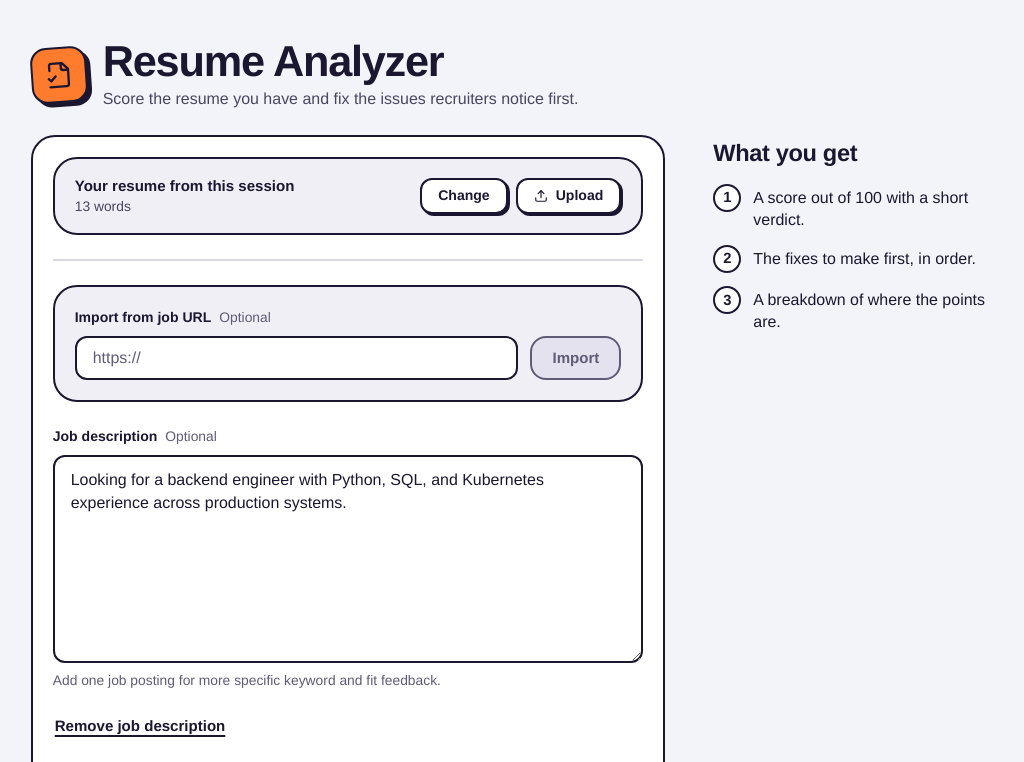
Test case: ToolRouteScreen › lets the user take the optional job back out of a Resume review
Click the button "Remove job description" at (140, 726), box 53,715 -> 227,738
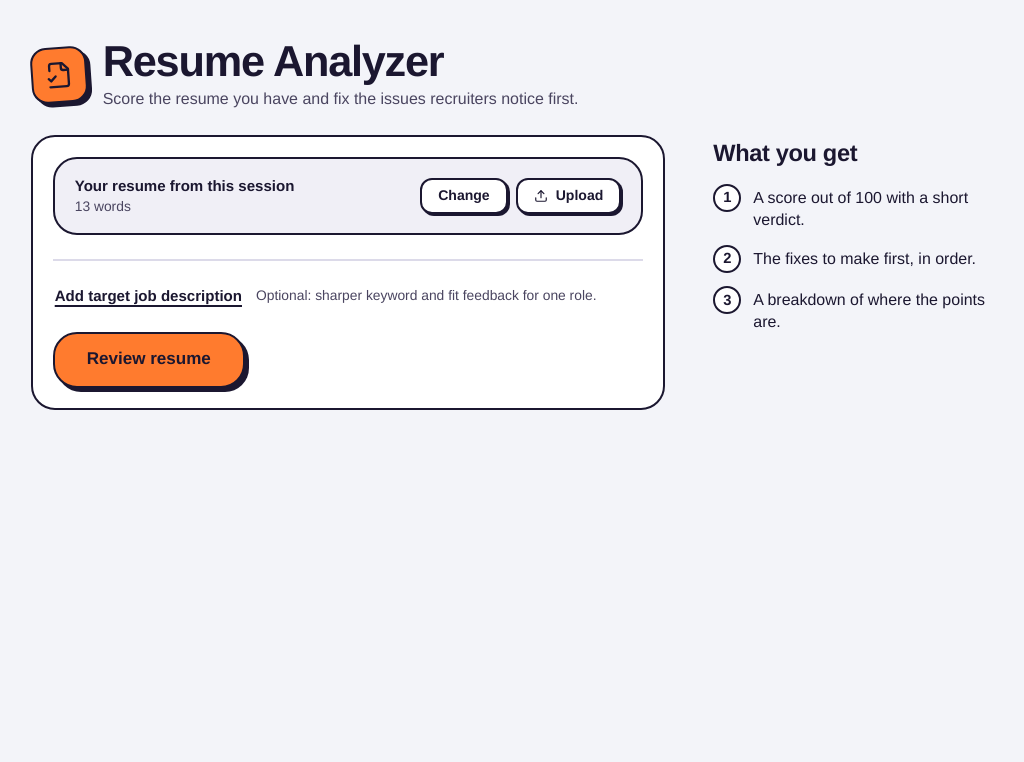
Check: the button "Add target job description" is shown, box 53,285 -> 244,308
